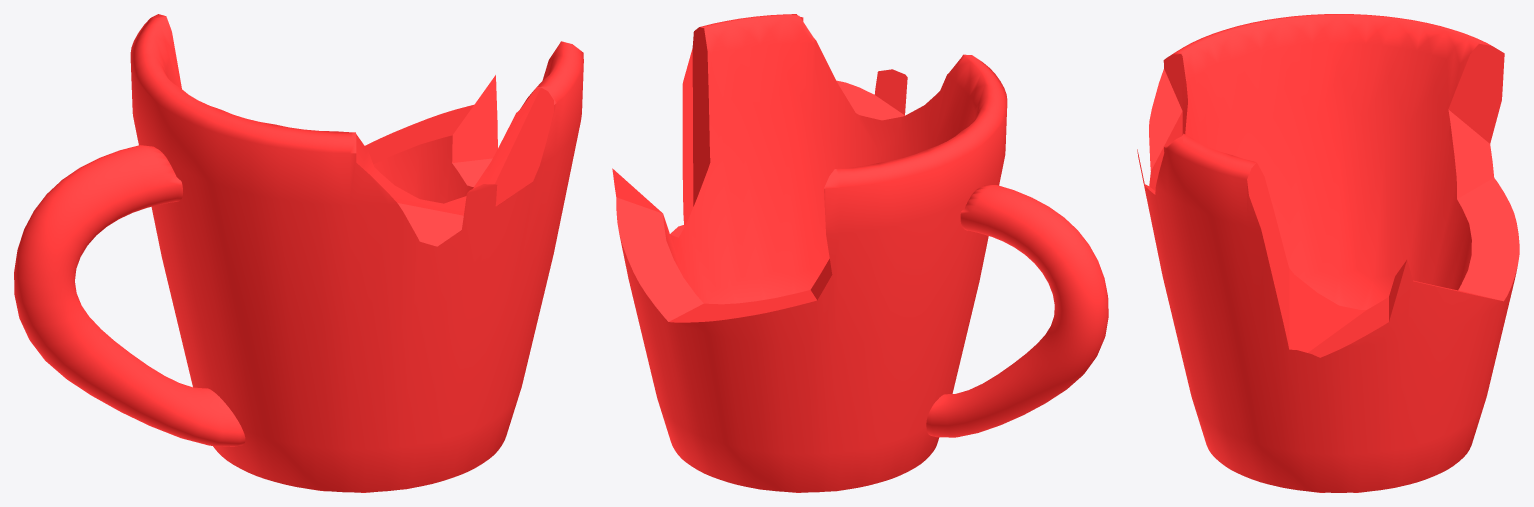
The model's file is mug.fbx.
3 renders of one model, left to right at view 1: azimuth 30°, elevation 25°; view 2: azimuth 150°, elevation 25°; view 3: azimuth 270°, elevation 25°, orthographic. The views are drawn at different scales.
Visible parts, largest first — view 1: pCylinder7; view 2: pCylinder7; view 3: pCylinder7.
Part boxes in pixels (left/top/right/bottom): pCylinder7: left=14, top=14, right=583, bottom=492; pCylinder7: left=612, top=14, right=1108, bottom=492; pCylinder7: left=1137, top=14, right=1519, bottom=492.
Bounding box in the file's own units: 15.64 × 11.29 × 11.18.
